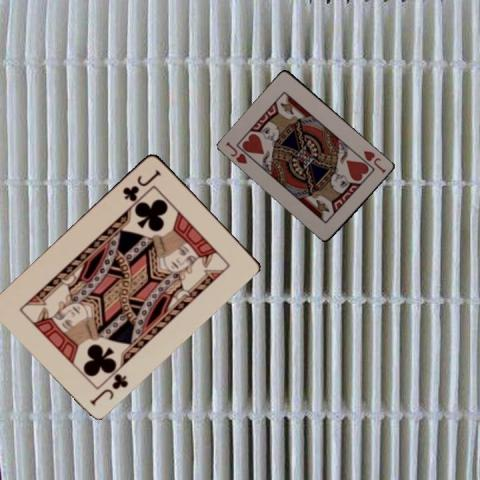Jc: (87, 370, 130, 407), (119, 166, 162, 202)
Jh: (361, 147, 388, 175), (224, 139, 250, 165)
